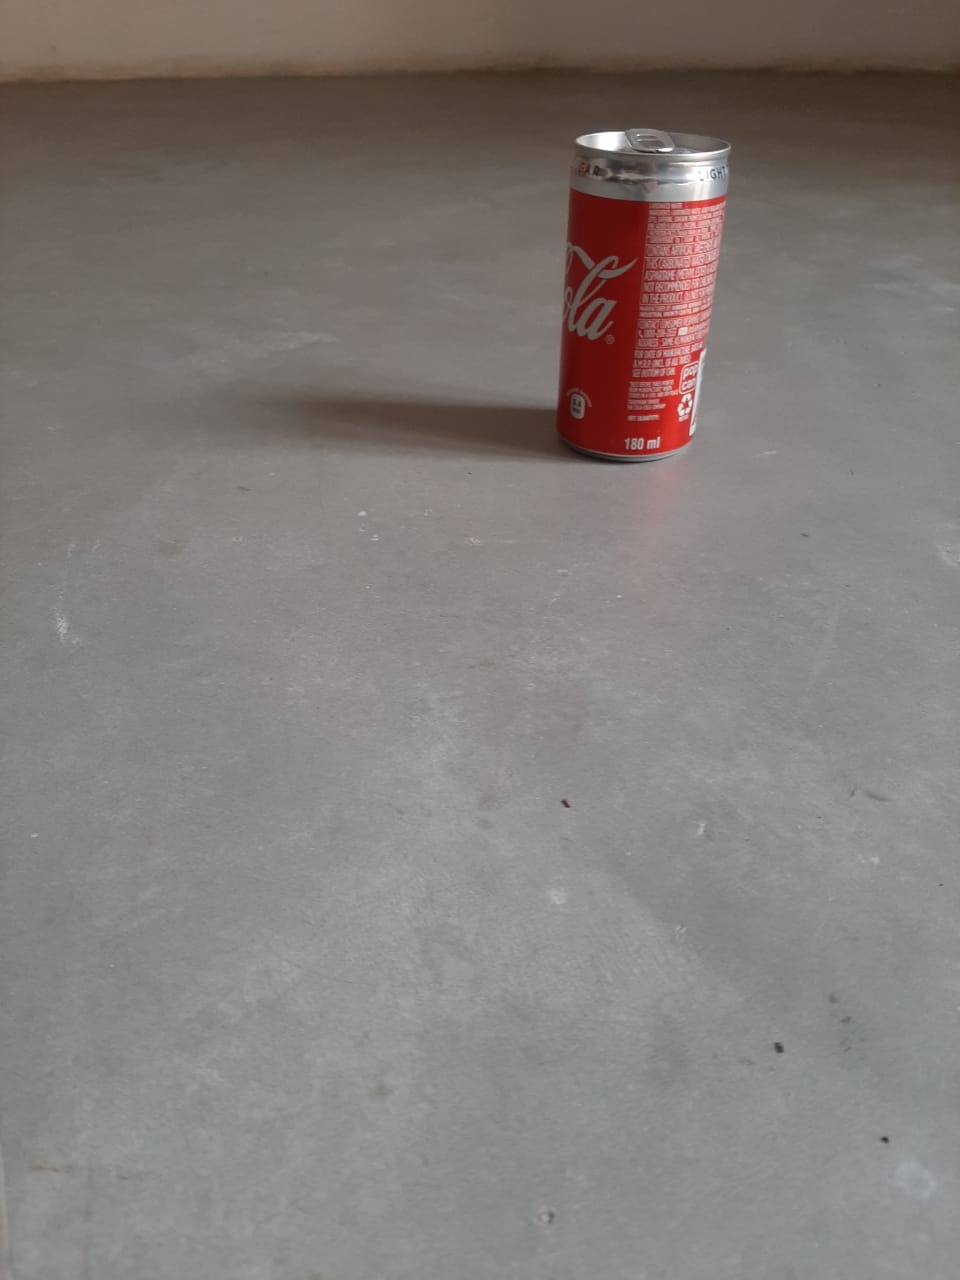Can: (558, 131, 731, 462)
